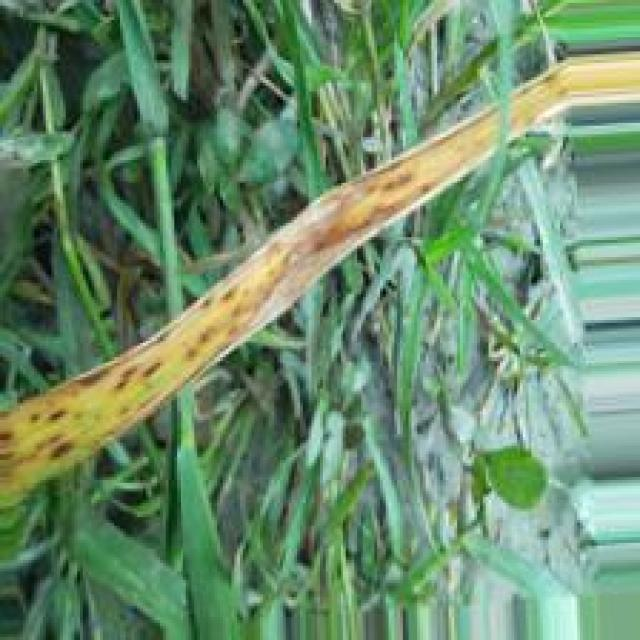Narrow_Brown_Leaf_Spot: (1, 51, 640, 502)
